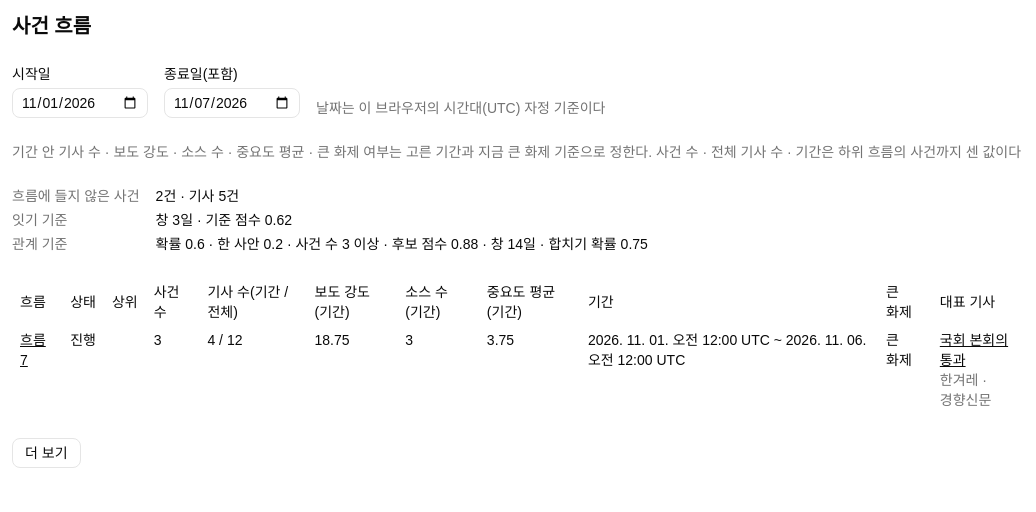
Test: StorylinesPage › 더 보기가 받은 커서로 다음 쪽을 이어 받는다
Expected: the link "흐름 7" is shown, [20,332,46,368]
Click the button "더 보기": (46, 453) [12,438,80,468]
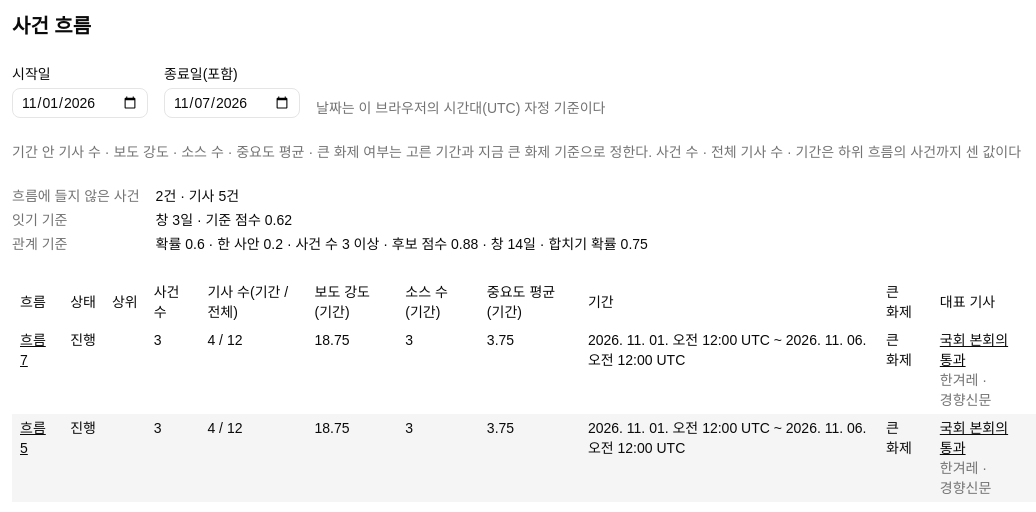
Expected: the link "흐름 5" is shown, [20,420,46,456]
Expected: the button "더 보기" is gone
